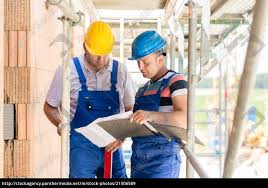helmet: (129, 28, 167, 60), (85, 21, 116, 55)
